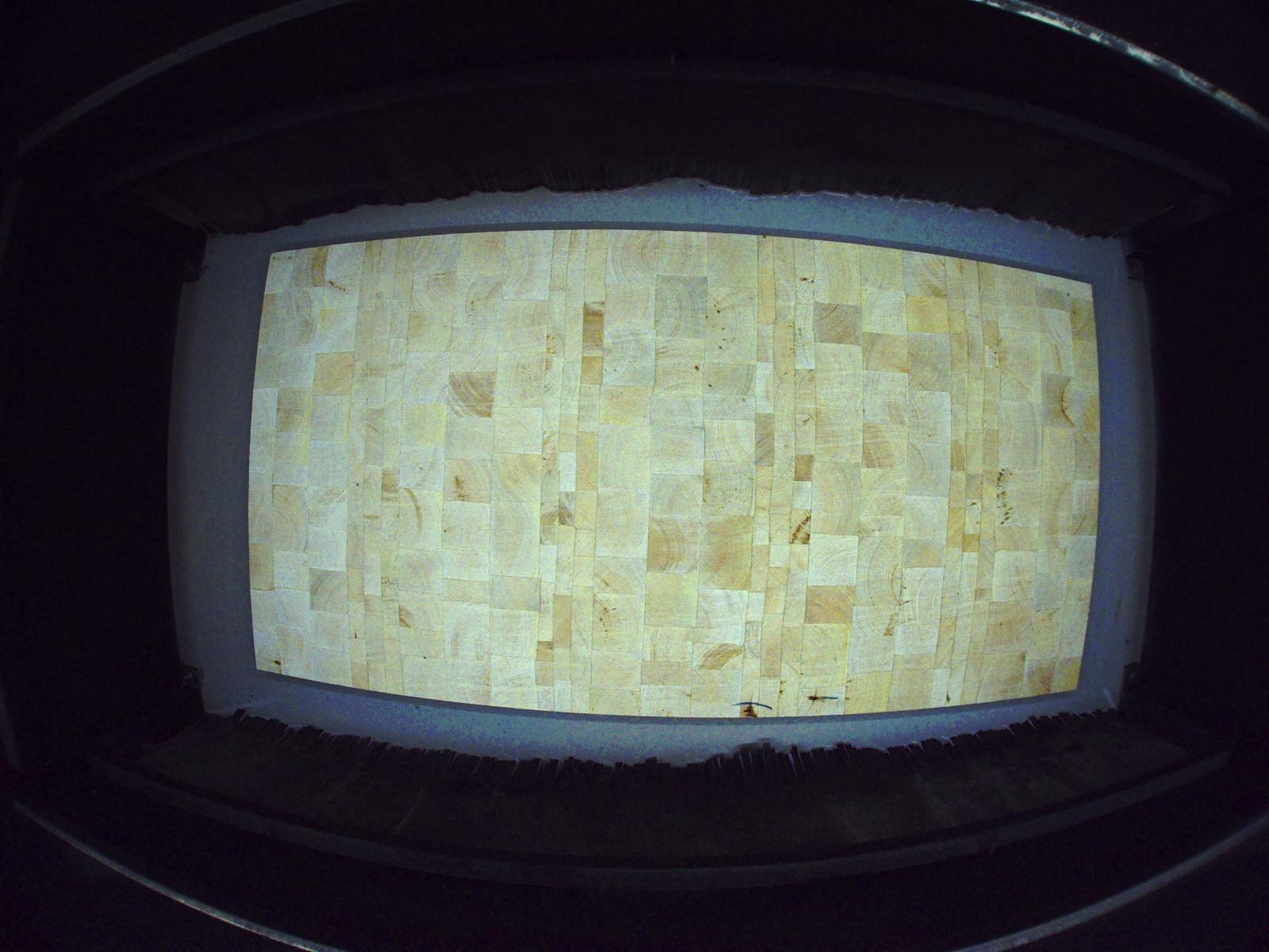sheck_ecuatoriano: (804, 685, 823, 717)
